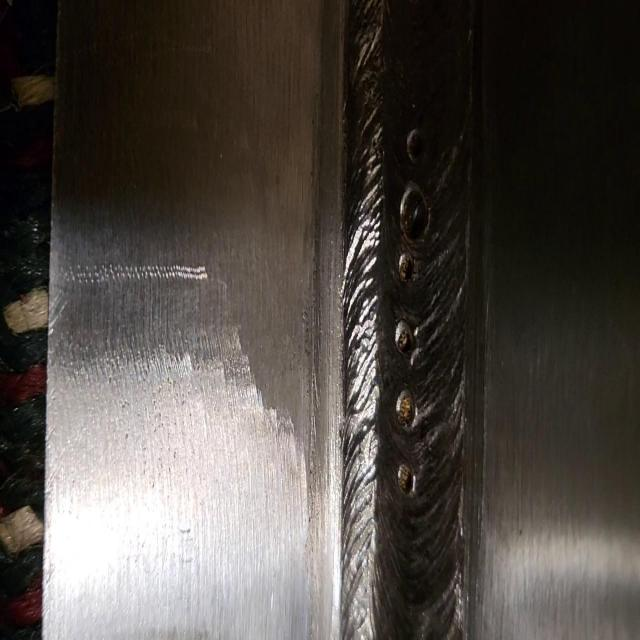Welding Line: (348, 2, 464, 640)
Workpiece: (56, 6, 636, 636)
porosity: (393, 130, 429, 496)
